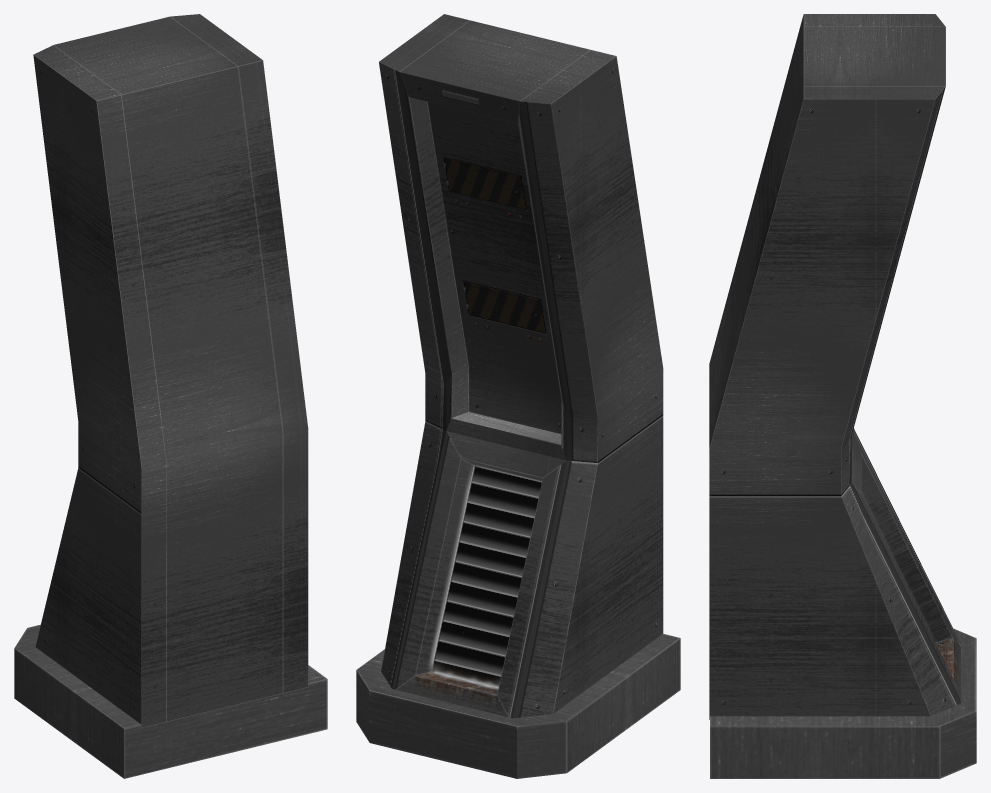
The model's file is Room1_Pillar.fbx.
3 renders of one model, left to right at view 1: azimuth 30°, elevation 25°; view 2: azimuth 150°, elevation 25°; view 3: azimuth 270°, elevation 25°, orthographic. The views are drawn at different scales.
Visible parts, largest first — view 1: polySurface277; view 2: polySurface277; view 3: polySurface277.
Part boxes in pixels (x1,y1,x2,y2): polySurface277: (14, 14, 327, 778); polySurface277: (356, 14, 680, 778); polySurface277: (709, 14, 976, 778).
Size of the model in its own units: 2.8 by 8.43 by 3.05.
